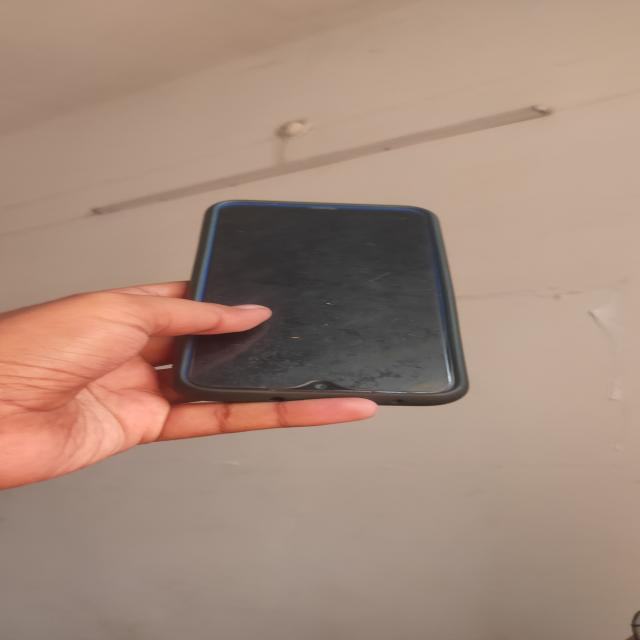Phone: (164, 194, 471, 407)
